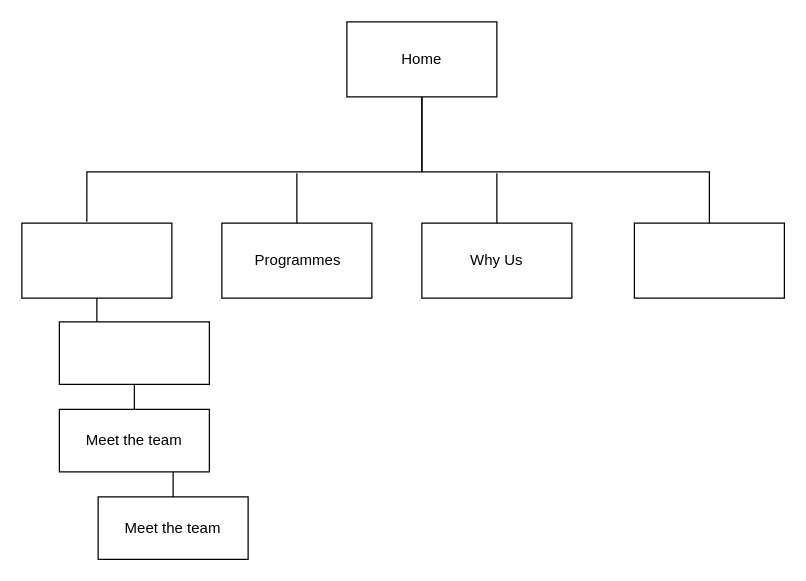
Image size: 806x581. Some labels were removed from this diagram. The shapes that lost their labels are listed below. From the top down, each one's box as (x1, y1, x2, y2) in pixels, then its label:
(21, 222, 172, 298): About
(633, 222, 784, 298): Contact
(58, 321, 209, 384): History
